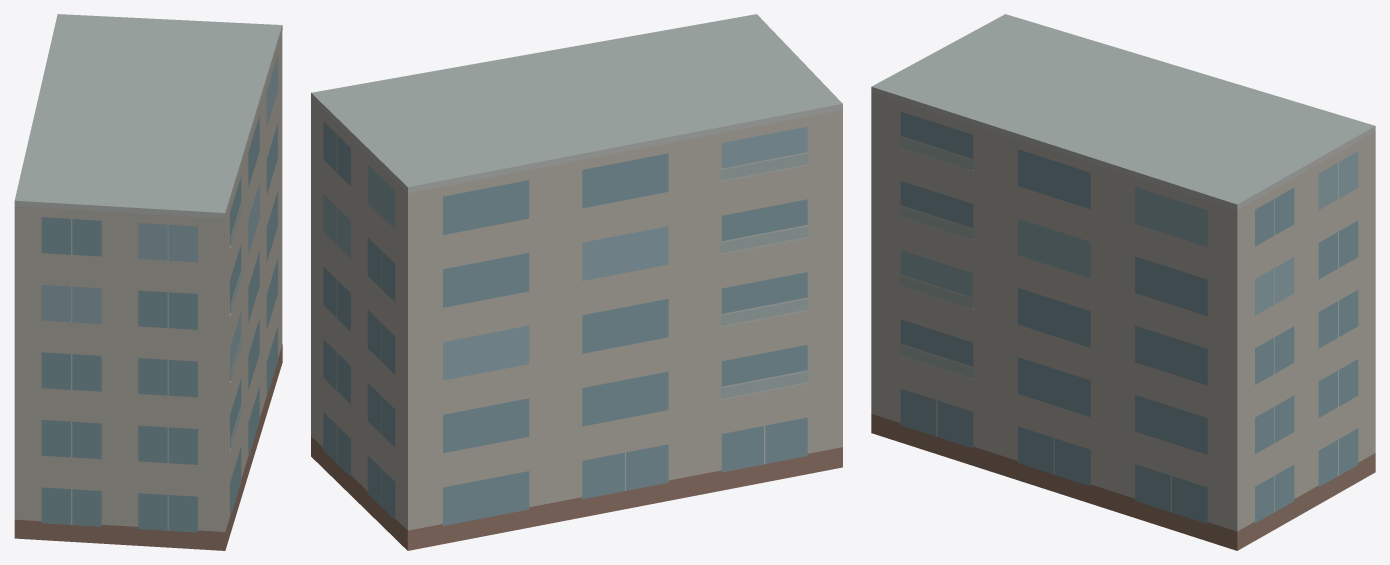
The model's file is survey-upis-32578577.glb.
3 renders of one model, left to right at view 1: azimuth 30°, elevation 25°; view 2: azimuth 150°, elevation 25°; view 3: azimuth 270°, elevation 25°, orthographic. The views are drawn at different scales.
Parts seen in each view (by area): view 1: survey-upis-32578577.tmp; view 2: survey-upis-32578577.tmp; view 3: survey-upis-32578577.tmp.
Boxes of the visible parts, bbox=[...] form: survey-upis-32578577.tmp: bbox=[14, 14, 282, 550]; survey-upis-32578577.tmp: bbox=[311, 14, 842, 550]; survey-upis-32578577.tmp: bbox=[871, 14, 1375, 550].
Bounding box in the file's own units: 17.41 × 14.75 × 19.47.
